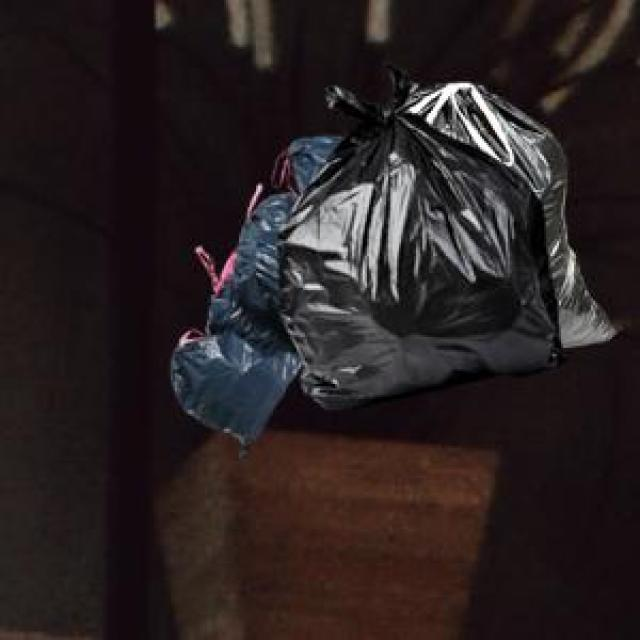Vinyl: (172, 71, 615, 443)
